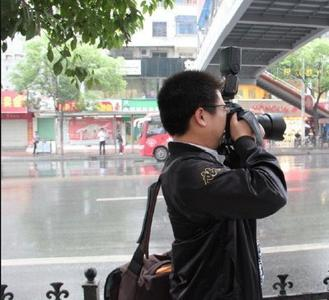person: (157, 71, 288, 300)
